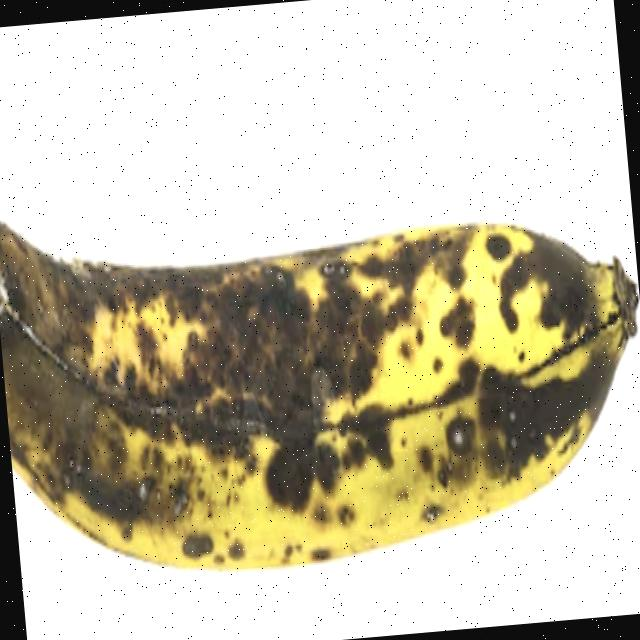Rotten: (0, 113, 640, 595)
